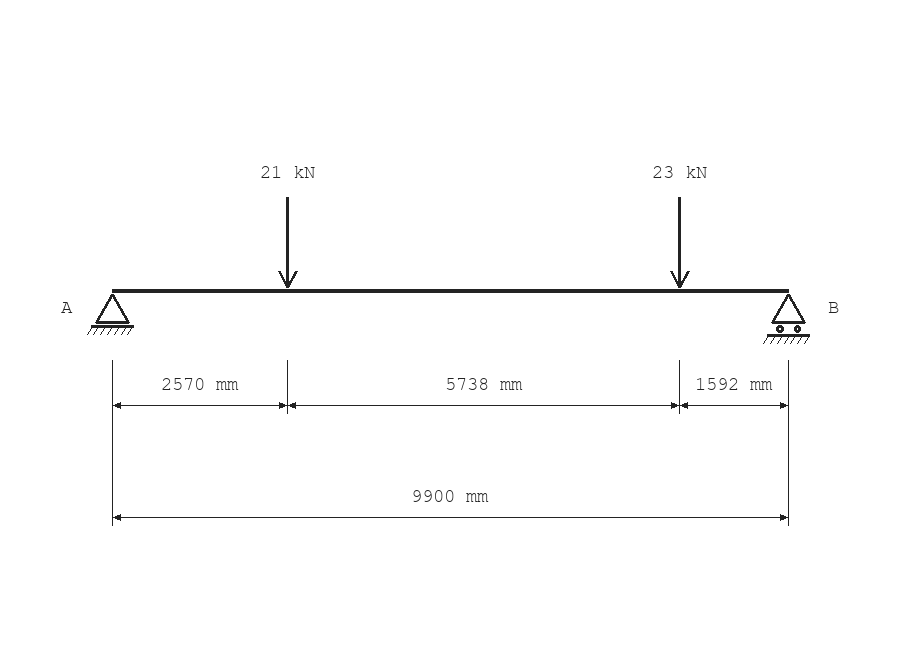pin_support: (87, 294, 134, 335)
point_load: (278, 197, 298, 288), (670, 197, 690, 288)
roller_support: (763, 294, 810, 344)
